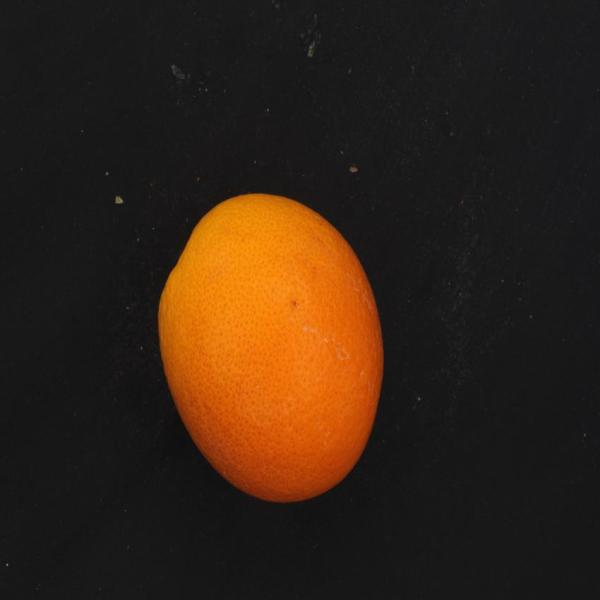Sana: (135, 172, 392, 512)
